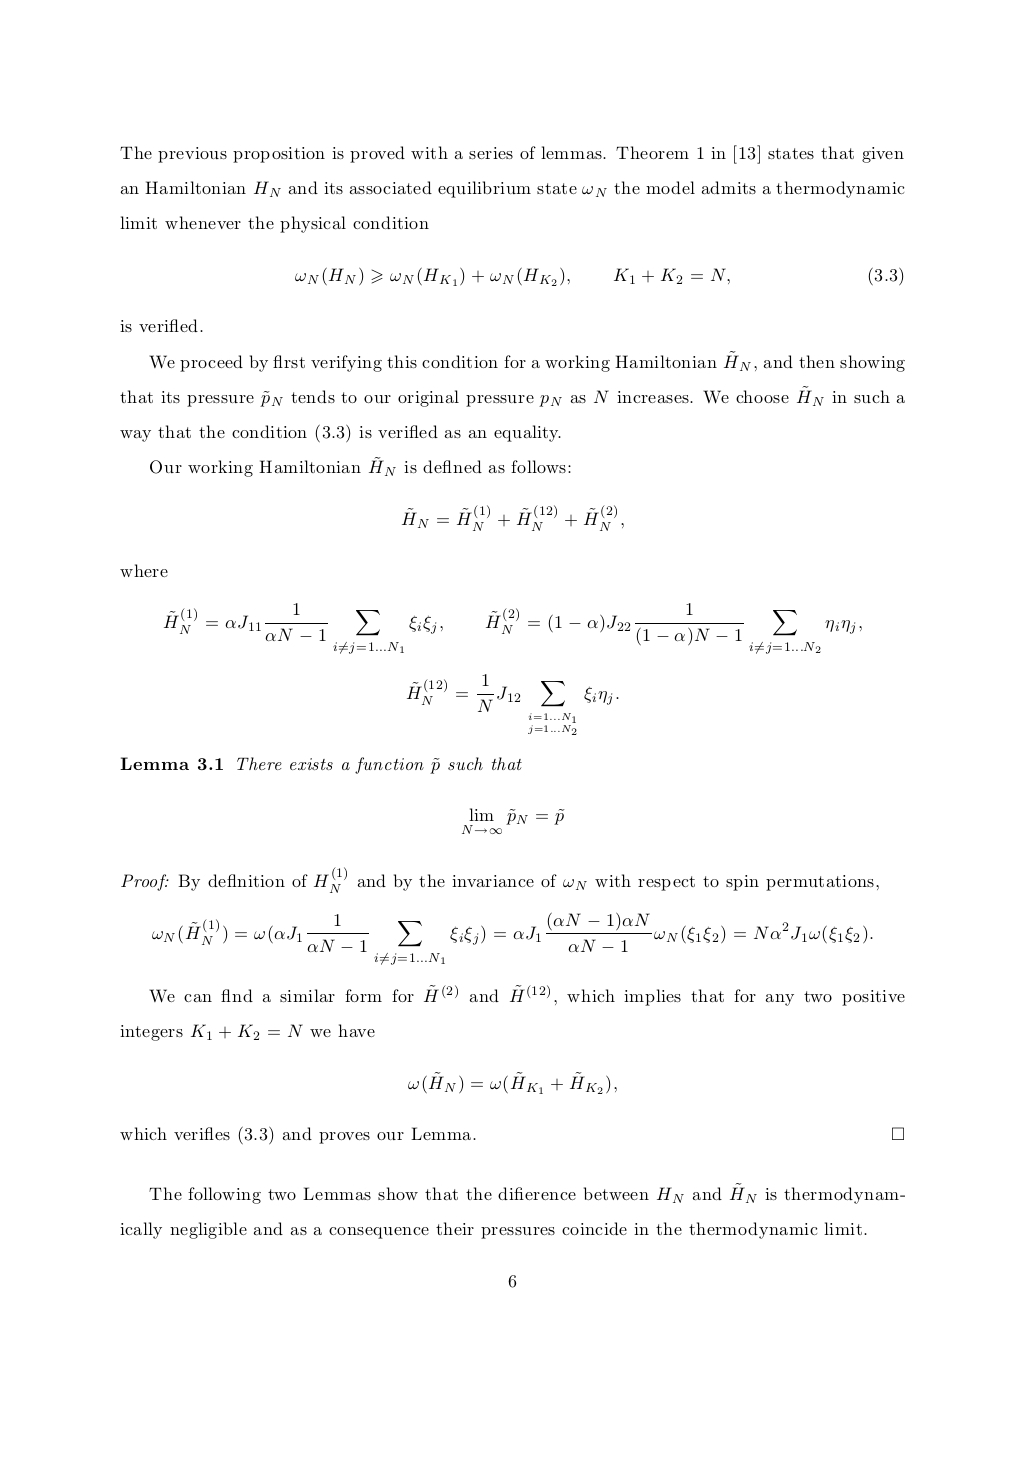formula: (152, 911, 873, 965), (163, 602, 861, 654), (406, 674, 618, 734), (295, 265, 903, 286), (401, 504, 623, 531), (408, 1071, 616, 1094), (461, 806, 563, 835)
